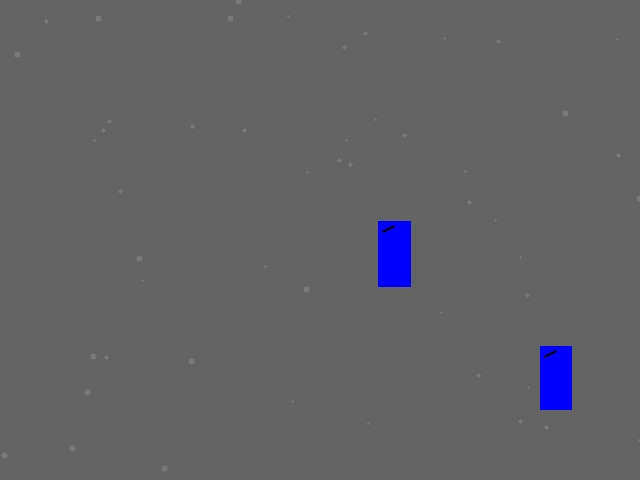motorcycle: (378, 221, 410, 286), (540, 346, 571, 409)
